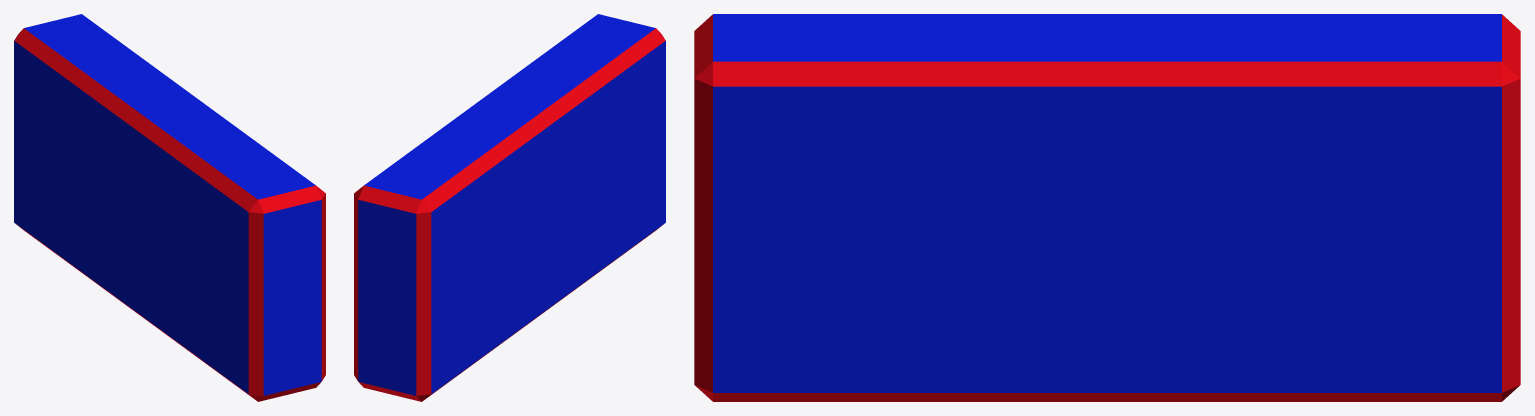
File: L14_Little_Platform.fbx
3 renders of one model, left to right at view 1: azimuth 30°, elevation 25°; view 2: azimuth 150°, elevation 25°; view 3: azimuth 270°, elevation 25°, orthographic. The views are drawn at different scales.
Visible parts, largest first — view 1: L14_Little_Platform; view 2: L14_Little_Platform; view 3: L14_Little_Platform.
Boxes of the visible parts, x1,y1,x2,y2 form: L14_Little_Platform: [14, 14, 325, 401]; L14_Little_Platform: [354, 14, 665, 401]; L14_Little_Platform: [694, 14, 1520, 401].
Size of the model in its own units: 40 by 100 by 220.
